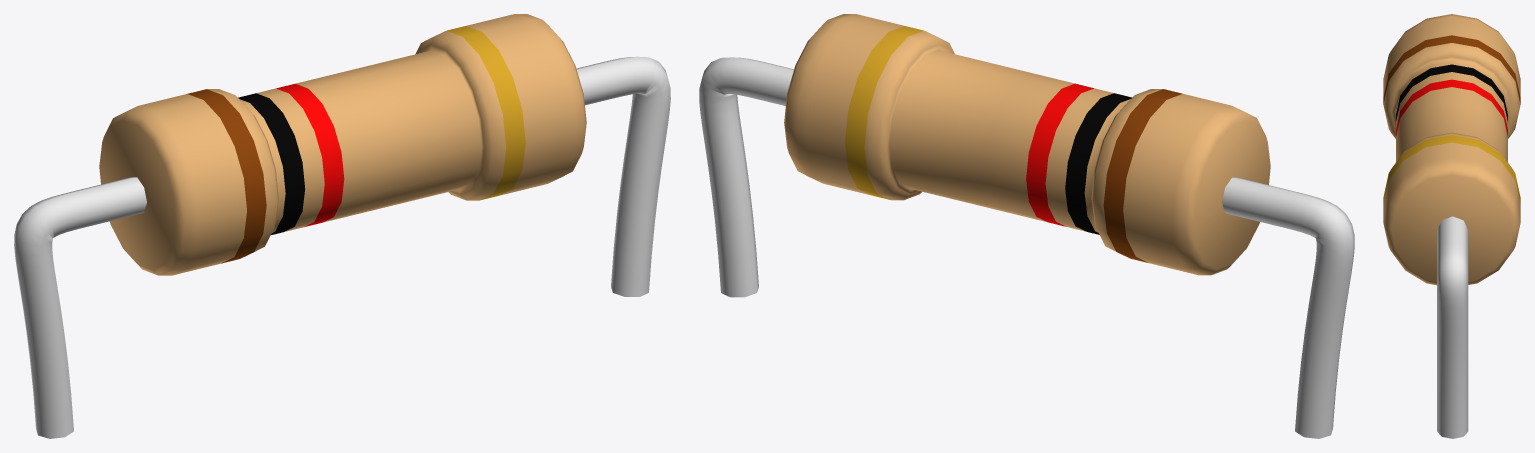
Rendered from resistor_sliced.fbx.
3 views of the same model, side by side, from view 1: azimuth 30°, elevation 25°; view 2: azimuth 150°, elevation 25°; view 3: azimuth 270°, elevation 25° (orthographic). The views are drawn at different scales.
Visible parts, largest first — view 1: Resistor-Axial, Legs.016; view 2: Resistor-Axial, Legs.016; view 3: Resistor-Axial, Legs.016.
Part boxes in pixels (<box>): Resistor-Axial: <box>99,14,586,275</box>; Legs.016: <box>14,56,670,438</box>; Resistor-Axial: <box>784,14,1270,275</box>; Legs.016: <box>699,57,1354,438</box>; Resistor-Axial: <box>1383,14,1520,285</box>; Legs.016: <box>1437,216,1468,438</box>.
Size of the model in its own units: 0.9538 by 0.4125 by 0.22.
